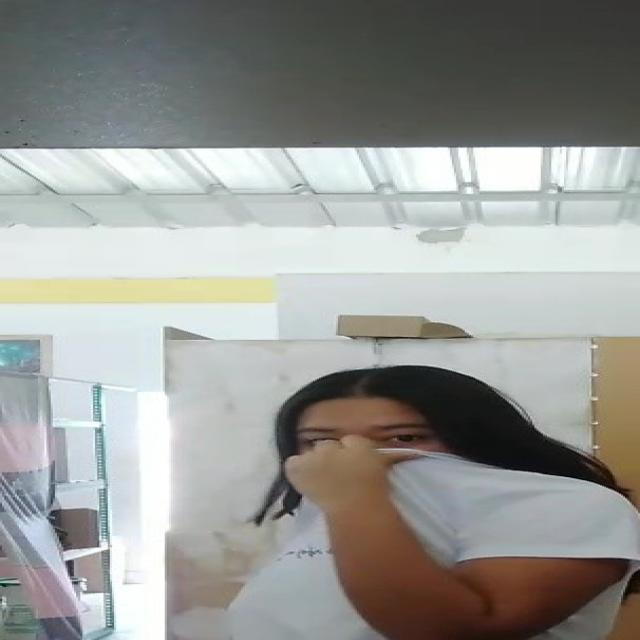8_ropa_rostro: (288, 437, 492, 541)
